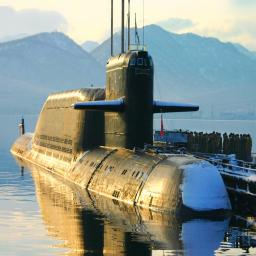submarine: (10, 17, 238, 220)
